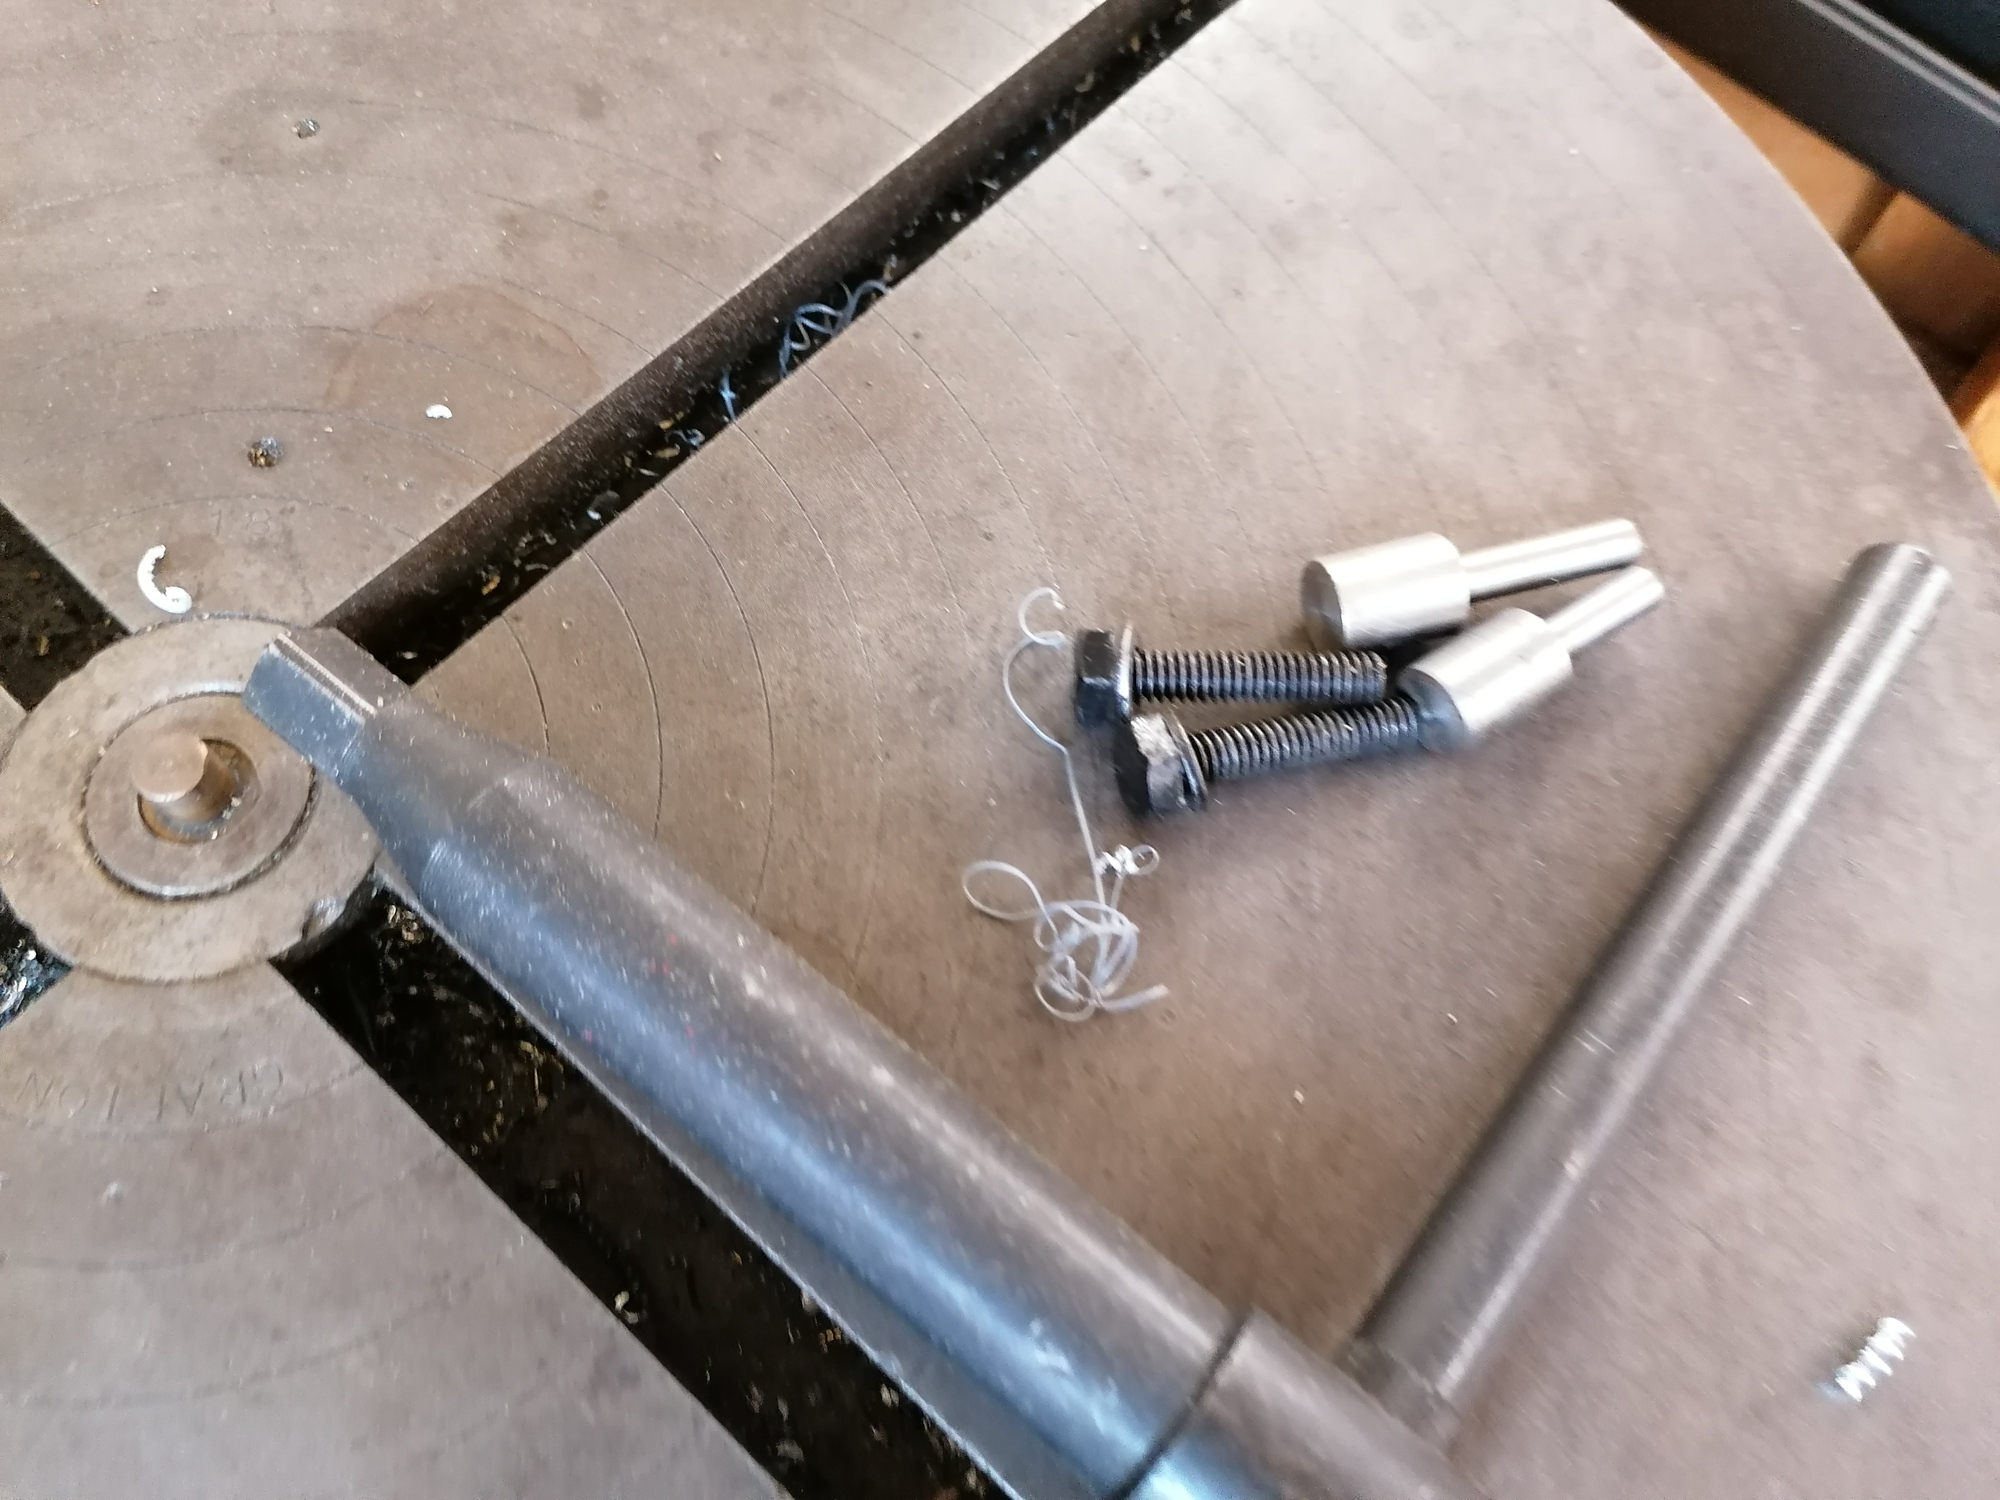bolt: (1110, 682, 1424, 822), (1061, 624, 1391, 722)
